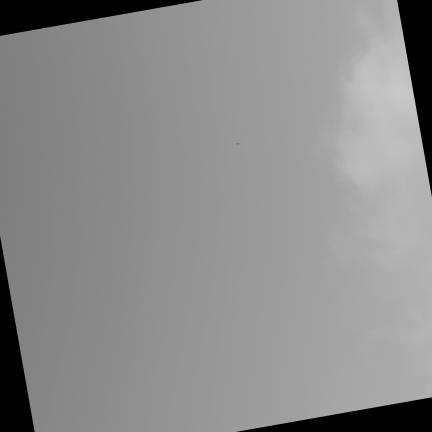Shahed: (235, 141, 241, 144)
